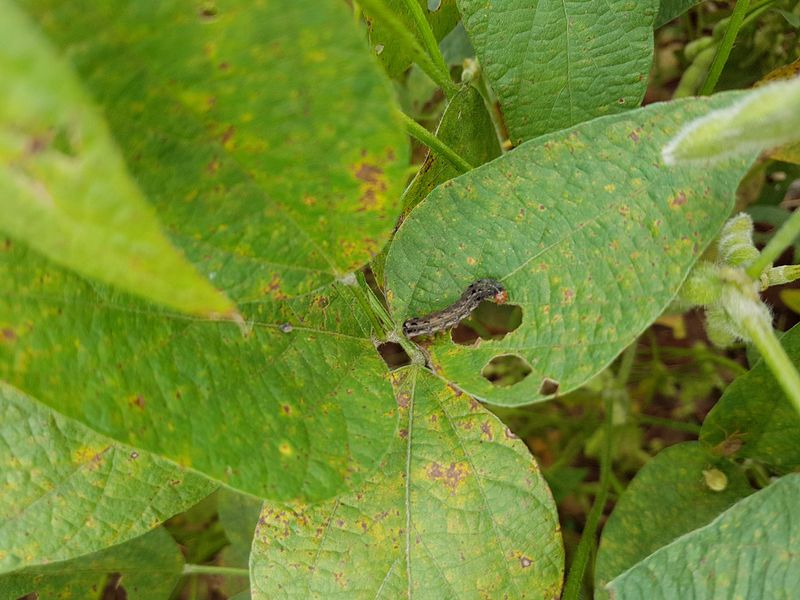Euschistus_heros_ninfa: (689, 458, 736, 506)
Spodoptera_albula: (384, 260, 519, 370)
